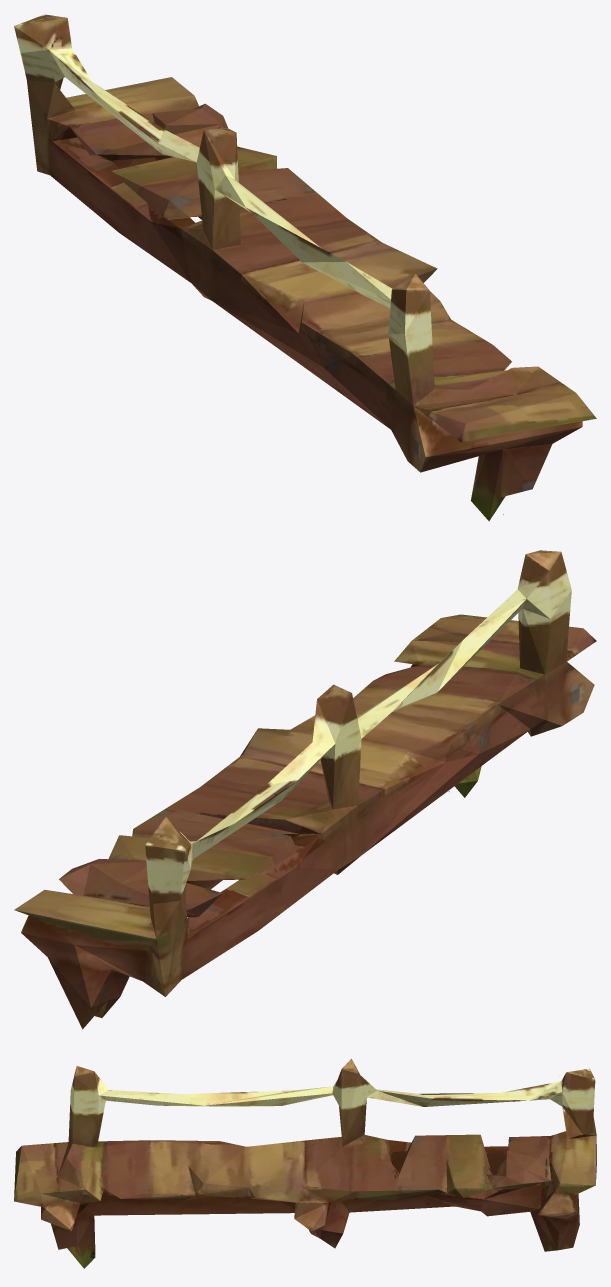
The model's file is boardwalk.glb.
3 views of the same model, one above another, from view 1: azimuth 30°, elevation 25°; view 2: azimuth 150°, elevation 25°; view 3: azimuth 270°, elevation 25° (orthographic). The views are drawn at different scales.
Visible parts, largest first — view 1: boardwalk; view 2: boardwalk; view 3: boardwalk.
Boxes of the visible parts, box(x1,y1,x2,y2) form: boardwalk: box(14, 14, 596, 521); boardwalk: box(14, 550, 596, 1029); boardwalk: box(14, 1059, 596, 1268).
Bounding box in the file's own units: 0.9501 × 1.37 × 3.98.
1 material, 1 textured.
